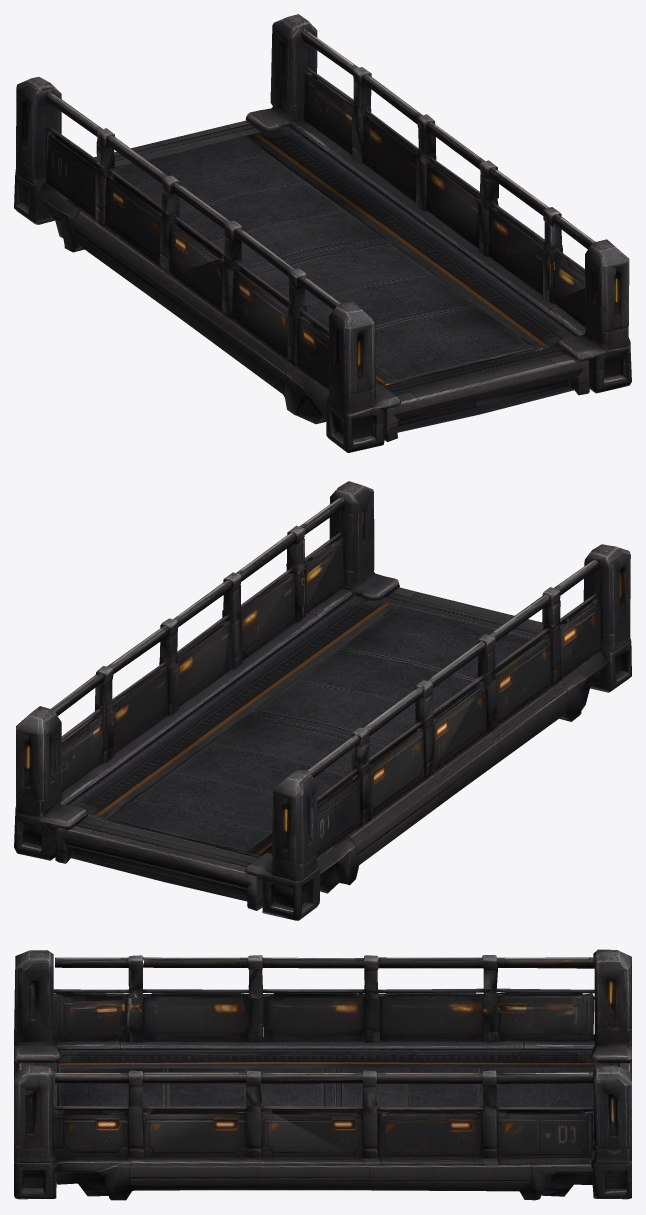
The model's file is bridge_1.glb.
3 views of the same model, one above another, from view 1: azimuth 30°, elevation 25°; view 2: azimuth 150°, elevation 25°; view 3: azimuth 270°, elevation 25° (orthographic). The views are drawn at different scales.
Parts seen in each view (by area): view 1: mesh_node; view 2: mesh_node; view 3: mesh_node.
Part boxes in pixels (x1,y1,x2,y2): mesh_node: [14, 14, 631, 452]; mesh_node: [14, 481, 631, 920]; mesh_node: [14, 949, 631, 1200].
Bounding box in the file's own units: 1.76 × 0.8 × 3.55.
1 material, 1 textured.
